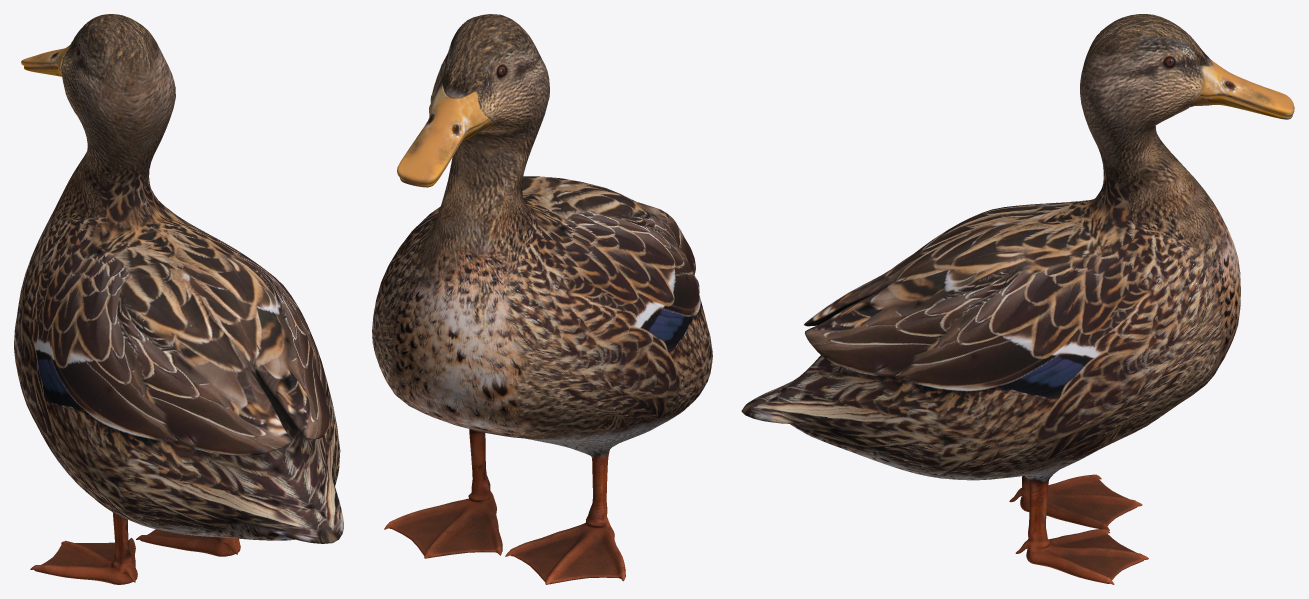
The model's file is Rata.obj.
3 renders of one model, left to right at view 1: azimuth 30°, elevation 25°; view 2: azimuth 150°, elevation 25°; view 3: azimuth 270°, elevation 25°, orthographic. The views are drawn at different scales.
Visible parts, largest first — view 1: 12249_Bird_v1_L2_12249_Bird_v1_L2.001; view 2: 12249_Bird_v1_L2_12249_Bird_v1_L2.001; view 3: 12249_Bird_v1_L2_12249_Bird_v1_L2.001.
Boxes of the visible parts, x1=… form: 12249_Bird_v1_L2_12249_Bird_v1_L2.001: x1=14, y1=14, x2=343, y2=584; 12249_Bird_v1_L2_12249_Bird_v1_L2.001: x1=372, y1=14, x2=712, y2=584; 12249_Bird_v1_L2_12249_Bird_v1_L2.001: x1=741, y1=14, x2=1294, y2=584.
Bounding box in the file's own units: 0.5476 × 1.07 × 1.04.
